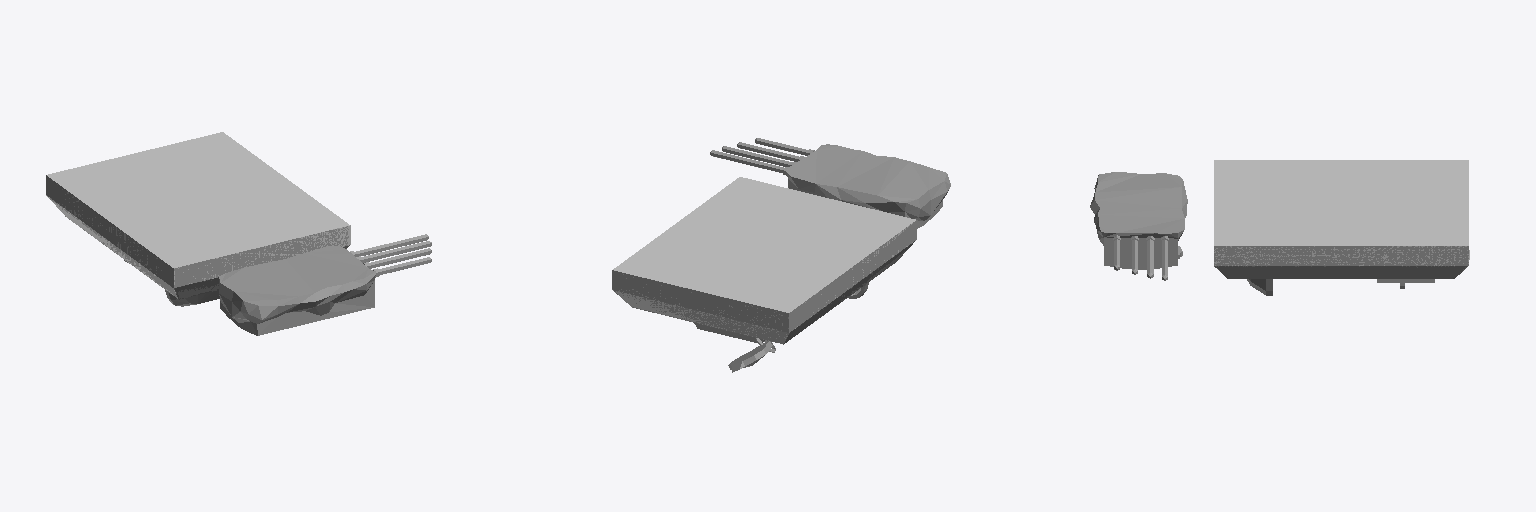
Rendered from auc_interactable_keycard_reader.obj.
3 renders of one model, left to right at view 1: azimuth 30°, elevation 25°; view 2: azimuth 150°, elevation 25°; view 3: azimuth 270°, elevation 25°, orthographic.
Visible parts, largest first — view 1: c_c, g_ecm, g_control_panel; view 2: c_c, g_ecm, g_control_panel, g_keycard; view 3: c_c, g_ecm, g_control_panel.
Part boxes in pixels (x1,y1,x2,y2): c_c: (46,132,350,298); g_ecm: (219,234,431,335); g_control_panel: (46,175,348,299); c_c: (612,177,915,340); g_ecm: (710,138,950,228); g_control_panel: (612,220,916,344); g_keycard: (694,323,775,372); c_c: (1214,160,1468,274); g_ecm: (1090,172,1187,280); g_control_panel: (1214,246,1468,282).
Size of the model in its own units: 36.6 by 12.12 by 52.18.